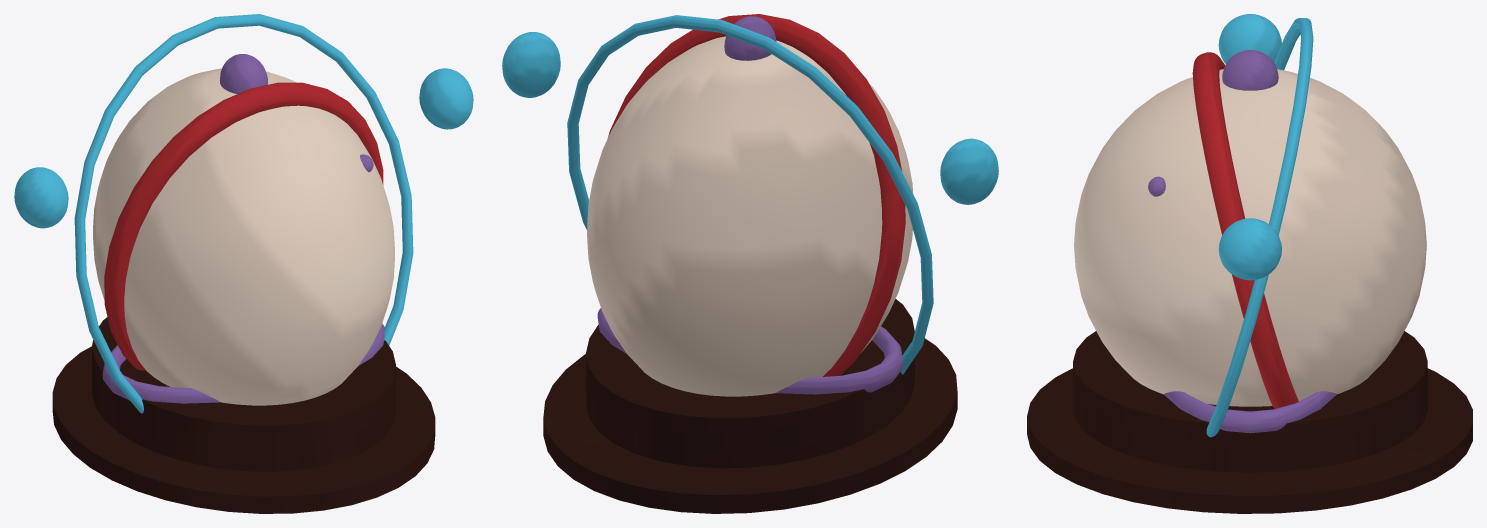
The model's file is 0033_天文图鉴_太阳系.glb.
3 views of the same model, side by side, from view 1: azimuth 30°, elevation 25°; view 2: azimuth 150°, elevation 25°; view 3: azimuth 270°, elevation 25° (orthographic). The views are drawn at different scales.
Visible parts, largest first — view 1: card_0033; view 2: card_0033; view 3: card_0033.
Boxes of the visible parts, x1=… form: card_0033: x1=14, y1=14, x2=473, y2=513; card_0033: x1=502, y1=14, x2=998, y2=513; card_0033: x1=1027, y1=14, x2=1472, y2=513.
Size of the model in its own units: 1.19 by 1 by 0.9863.
